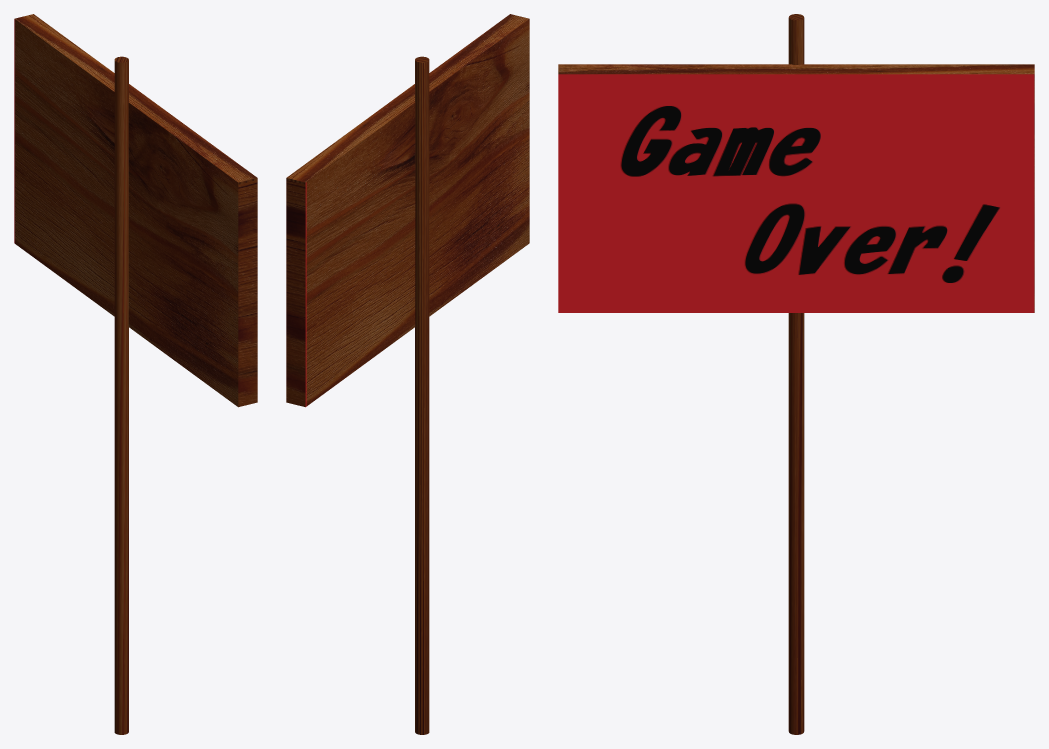
Rendered from 立て看板.fbx.
3 renders of one model, left to right at view 1: azimuth 30°, elevation 25°; view 2: azimuth 150°, elevation 25°; view 3: azimuth 270°, elevation 25°, orthographic. The views are drawn at different scales.
Visible parts, largest first — view 1: ボード, 柱; view 2: ボード, 柱; view 3: ボード, 柱.
Part boxes in pixels (x1=…): ボード: x1=14, y1=14, x2=257, y2=407; 柱: x1=114, y1=56, x2=128, y2=734; ボード: x1=286, y1=14, x2=529, y2=407; 柱: x1=415, y1=56, x2=429, y2=734; ボード: x1=558, y1=64, x2=1034, y2=312; 柱: x1=788, y1=14, x2=804, y2=734.
Bounding box in the file's own units: 15.59 × 331 × 200.
Materials: 1 (1 with a texture image).
